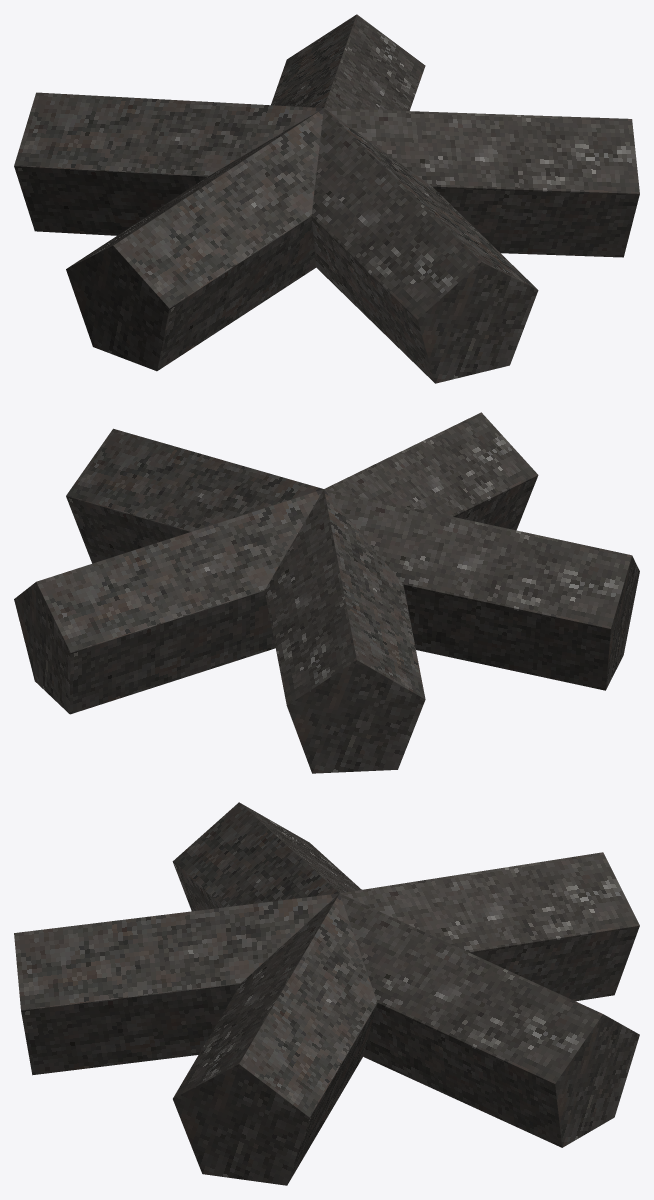
Rendered from campfire.glb.
3 views of the same model, one above another, from view 1: azimuth 30°, elevation 25°; view 2: azimuth 150°, elevation 25°; view 3: azimuth 270°, elevation 25° (orthographic). The views are drawn at different scales.
Visible parts, largest first — view 1: campfire; view 2: campfire; view 3: campfire.
Part boxes in pixels (<box>): campfire: <box>14,14,639,383</box>; campfire: <box>14,412,639,773</box>; campfire: <box>14,802,639,1185</box>.
Bounding box in the file's own units: 1.29 × 0.3558 × 1.24.
Materials: 1 (1 with a texture image).
